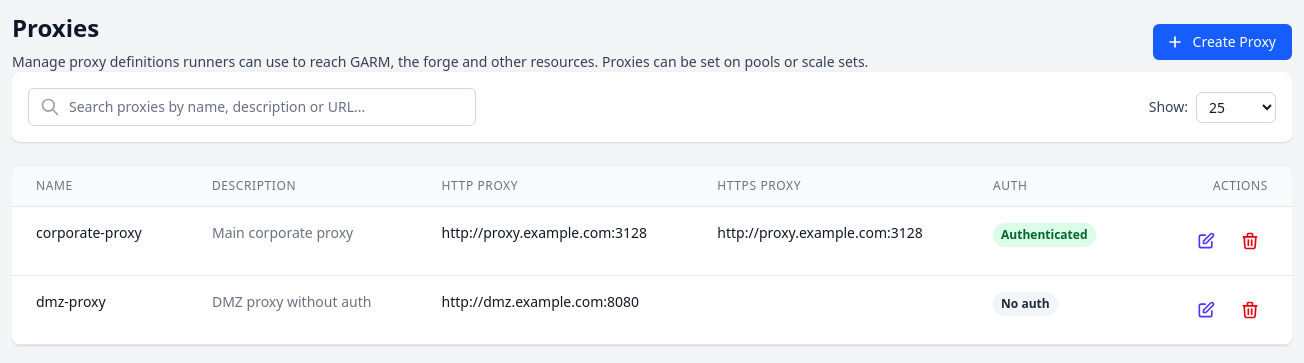
Test case: Proxies Page - Integration Tests › handles search filtering
Type "dmz" into the field with placeholder "Search proxies by name, description or URL...". click: (252, 107)
box: [28,88,476,126]
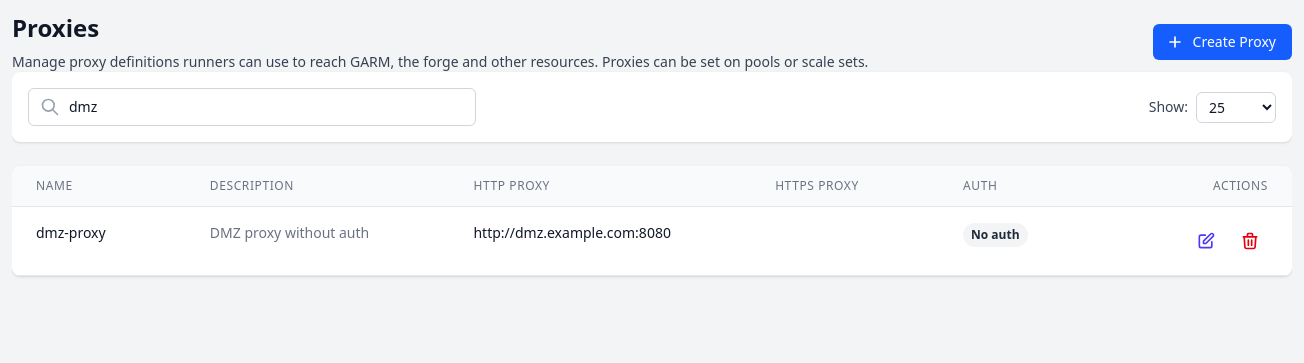
Now the text "corporate-proxy" is gone
